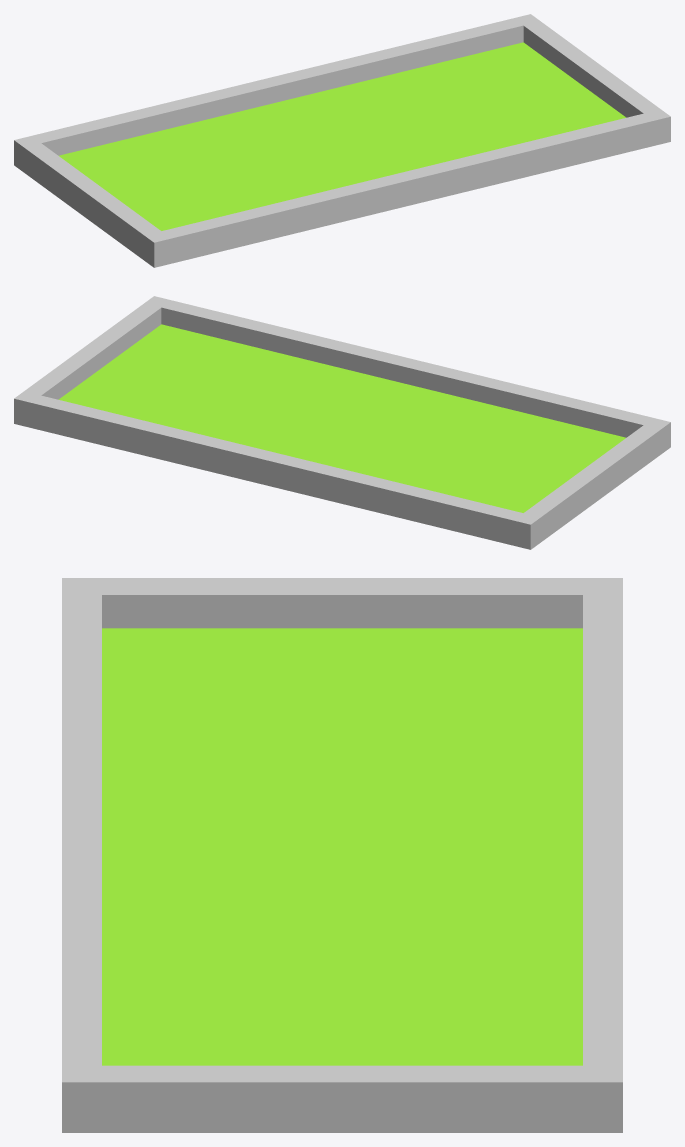
The model's file is Grave.fbx.
3 views of the same model, one above another, from view 1: azimuth 30°, elevation 25°; view 2: azimuth 150°, elevation 25°; view 3: azimuth 270°, elevation 25° (orthographic). The views are drawn at different scales.
Parts seen in each view (by area): view 1: Grave Bottom; view 2: Grave Bottom; view 3: Grave Bottom.
Boxes of the visible parts, <box> form: Grave Bottom: <box>14,14,670,267</box>; Grave Bottom: <box>14,296,670,549</box>; Grave Bottom: <box>62,578,622,1132</box>.
Bounding box in the file's own units: 806 × 37.56 × 379.
